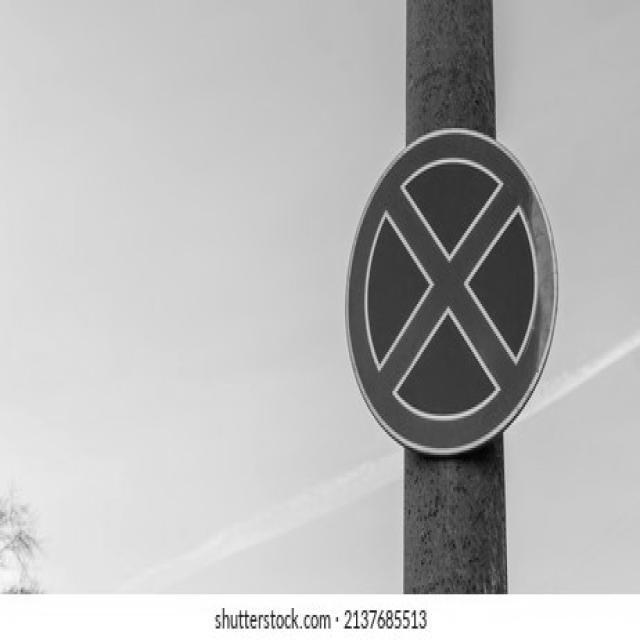no stopping or standing: (341, 124, 557, 461)
